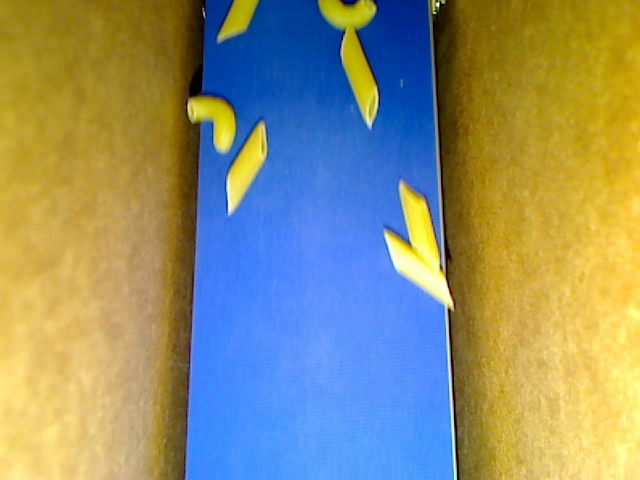elbow: (186, 95, 237, 155), (319, 1, 376, 31)
penne: (383, 228, 454, 311), (339, 23, 378, 130), (225, 118, 267, 215), (400, 179, 441, 271), (215, 1, 258, 44)
